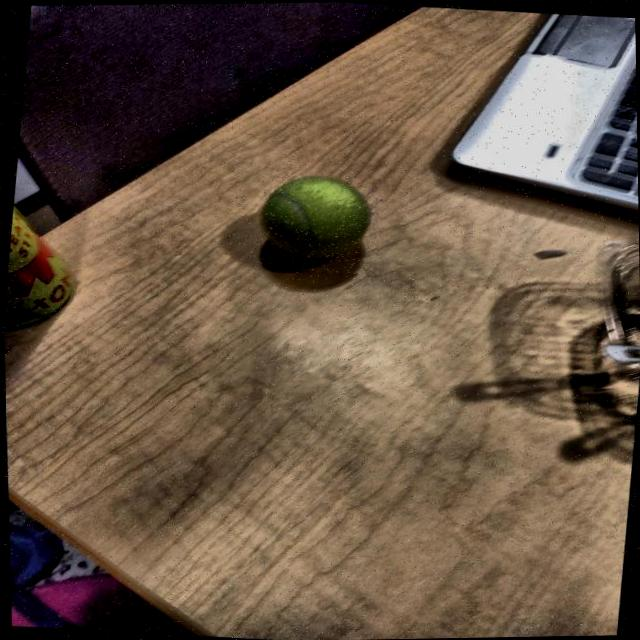tennis-ball: (250, 170, 388, 278)
